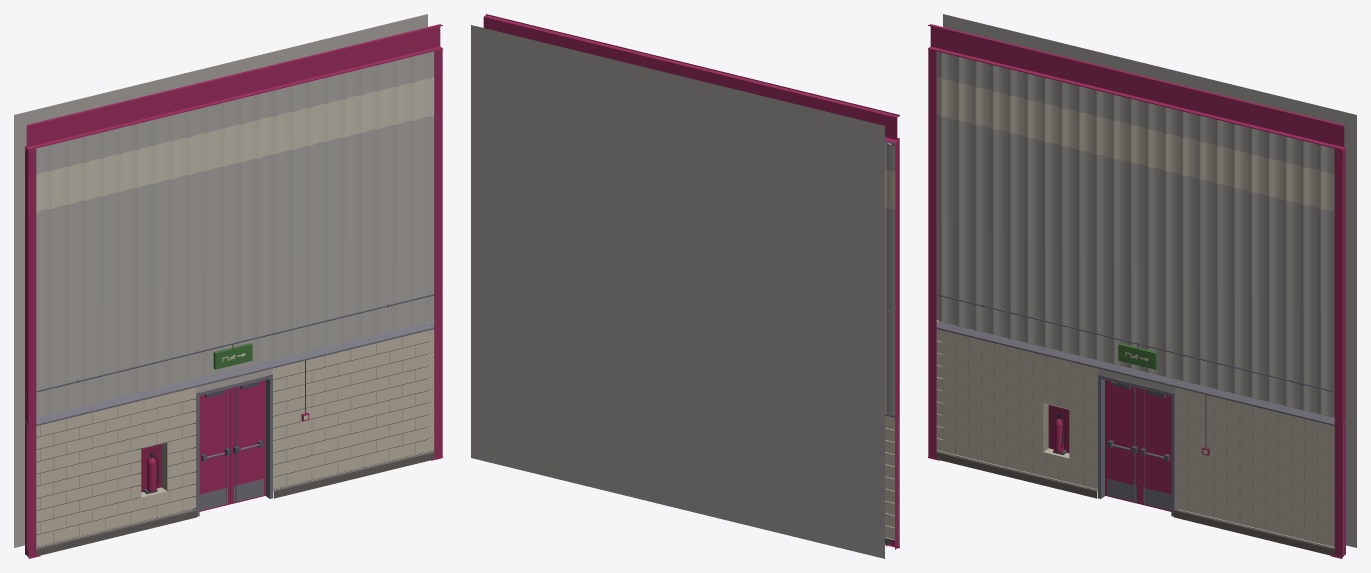
Rendered from hall_exit.glb.
3 renders of one model, left to right at view 1: azimuth 30°, elevation 25°; view 2: azimuth 150°, elevation 25°; view 3: azimuth 330°, elevation 25°, orthographic.
Visible parts, largest first — view 1: HallExit; view 2: HallExit; view 3: HallExit.
Part boxes in pixels (x1=…): HallExit: x1=14, y1=14, x2=442, y2=558; HallExit: x1=471, y1=14, x2=899, y2=558; HallExit: x1=928, y1=14, x2=1356, y2=558.
Bounding box in the file's own units: 8 × 8 × 0.5.
